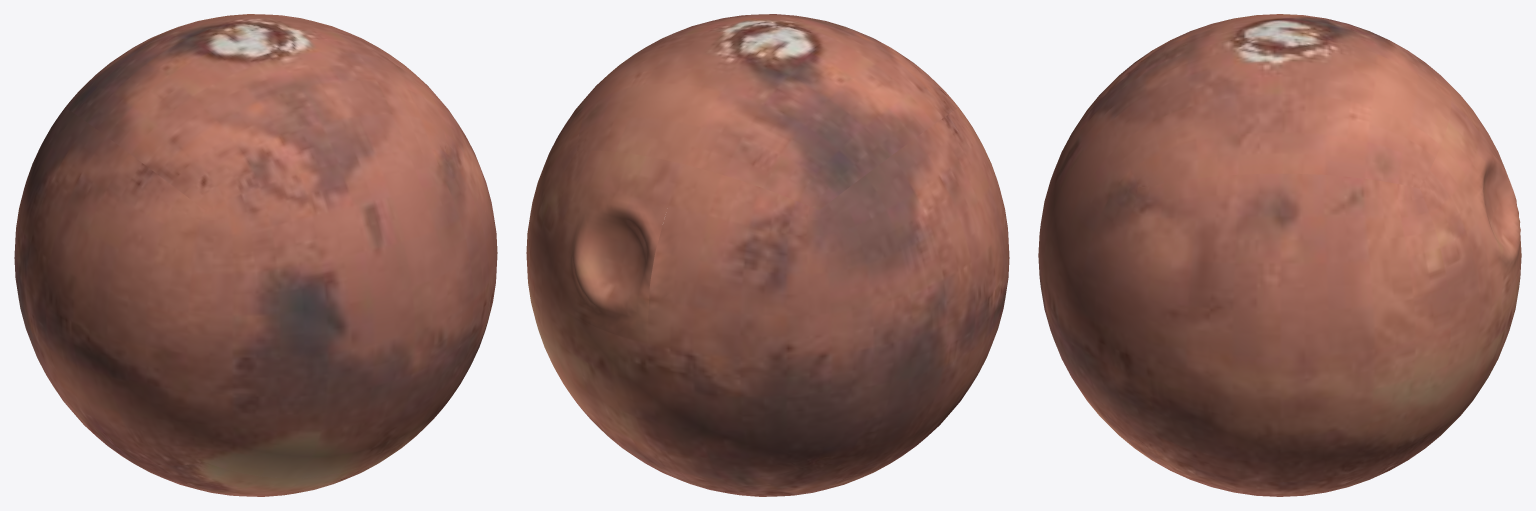
The model's file is mars-lite.glb.
3 renders of one model, left to right at view 1: azimuth 30°, elevation 25°; view 2: azimuth 150°, elevation 25°; view 3: azimuth 270°, elevation 25°, orthographic.
Parts seen in each view (by area): view 1: Mars; view 2: Mars; view 3: Mars.
Part boxes in pixels (x1=…): Mars: x1=14, y1=14, x2=497, y2=496; Mars: x1=526, y1=14, x2=1009, y2=496; Mars: x1=1038, y1=14, x2=1521, y2=496.
Size of the model in its own units: 2 by 2 by 2.
1 material, 1 textured.
